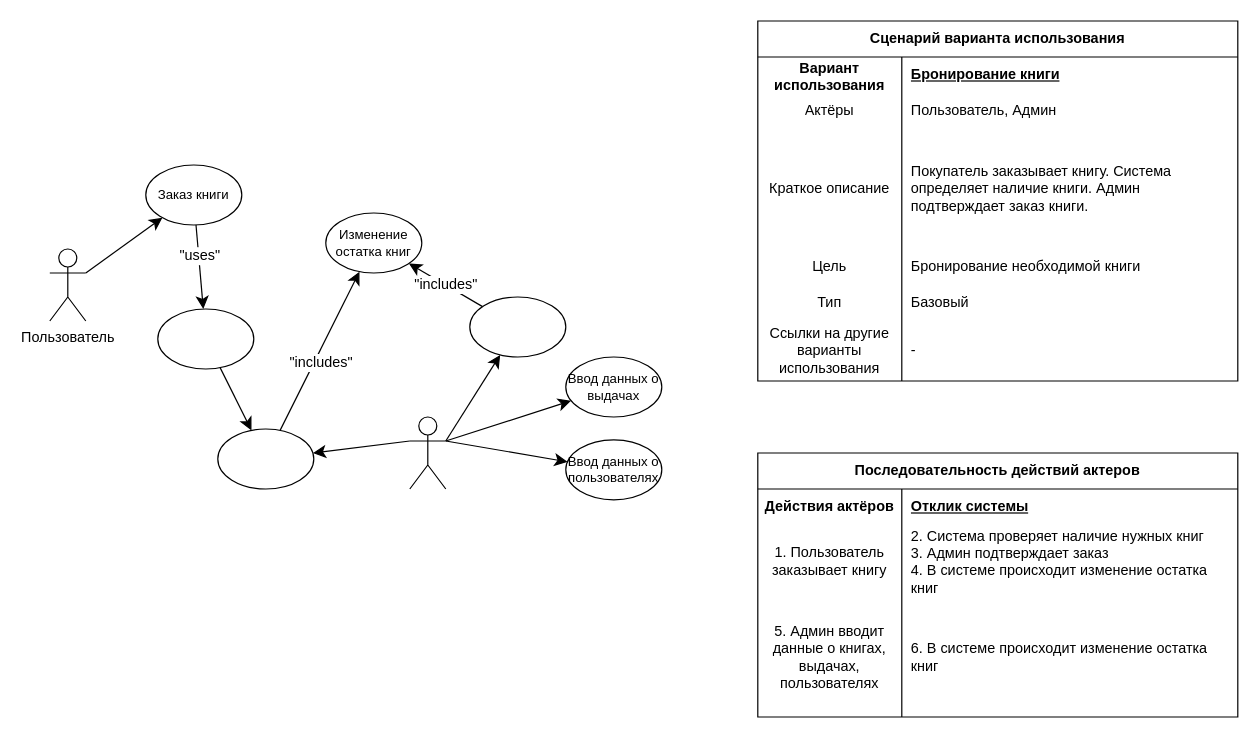
This 1259x738 diagram has some shape labels left out. Here are the shapes that lost their labels. From the top down, the centre of each, then its label:
At [205,338]: "Определение наличия книг".
At [517,326]: "Ввод данных книг".
At [265,458]: "Оформление заказа".
At [427,452]: "Админ".
